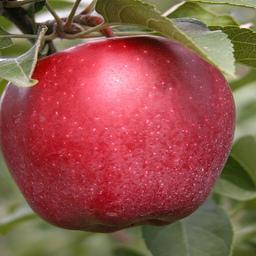apple: (0, 36, 234, 232)
